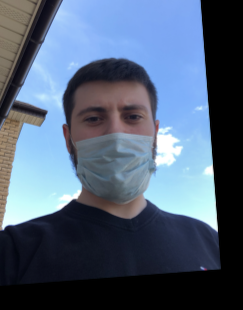with_mask: (74, 96, 155, 204)
